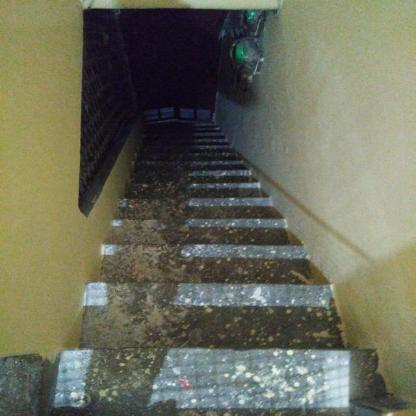stair: (73, 108, 347, 416)
